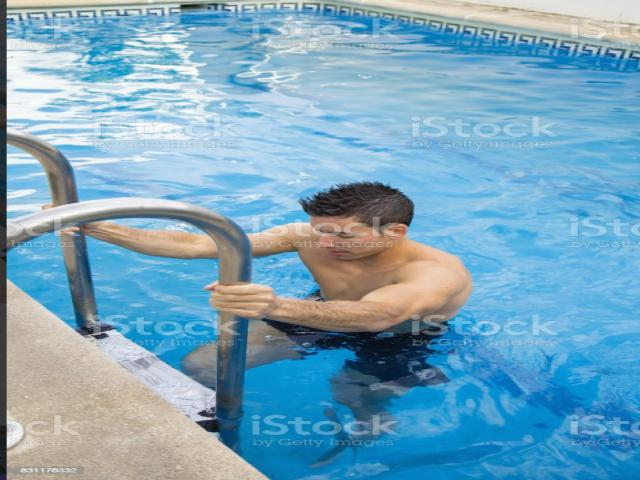swimming: (91, 178, 502, 446)
